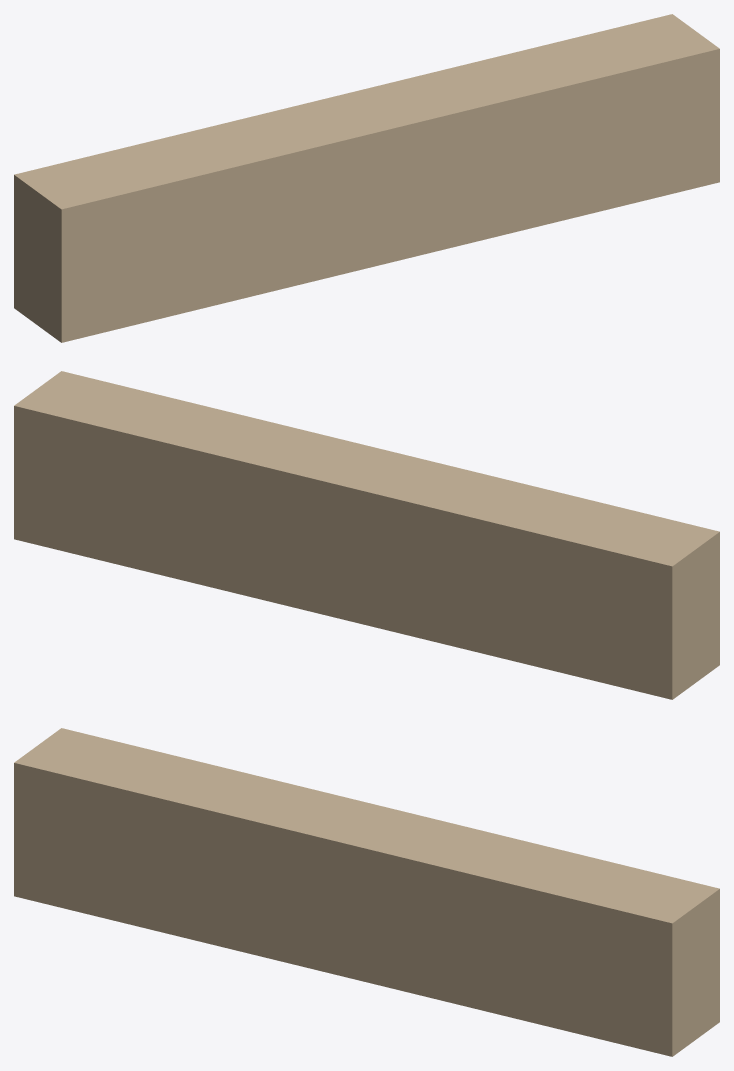
The model's file is bee_wall_far-Dtf55Hzt.glb.
The picture shows the model from 3 angles, top to bottom: view 1: azimuth 30°, elevation 25°; view 2: azimuth 150°, elevation 25°; view 3: azimuth 330°, elevation 25°; orthographic projection.
Parts seen in each view (by area): view 1: bee_wall_far; view 2: bee_wall_far; view 3: bee_wall_far.
Part boxes in pixels (x1,y1,x2,y2): bee_wall_far: (14,14,719,342); bee_wall_far: (14,371,719,699); bee_wall_far: (14,728,719,1056).
Bounding box in the file's own units: 16 × 3.1 × 2.
